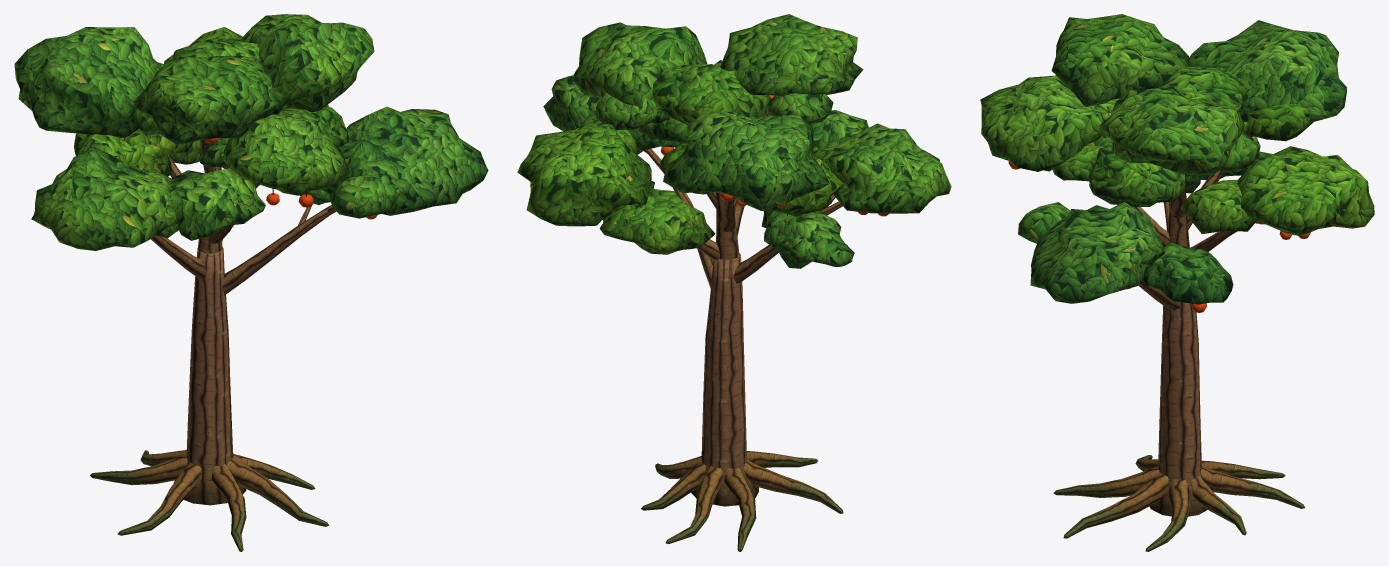
The model's file is tree.glb.
3 renders of one model, left to right at view 1: azimuth 30°, elevation 25°; view 2: azimuth 150°, elevation 25°; view 3: azimuth 270°, elevation 25°, orthographic. The views are drawn at different scales.
Parts seen in each view (by area): view 1: Leaves, Trunk, Roots, Branches; view 2: Leaves, Trunk, Roots, Branches; view 3: Leaves, Roots, Trunk, Branches.
Part boxes in pixels (x1=…): Leaves: x1=14, y1=14, x2=488, y2=250; Trunk: x1=174, y1=247, x2=246, y2=505; Roots: x1=90, y1=450, x2=329, y2=551; Branches: x1=151, y1=139, x2=336, y2=295; Leaves: x1=517, y1=14, x2=951, y2=268; Trunk: x1=691, y1=252, x2=758, y2=506; Roots: x1=641, y1=451, x2=843, y2=551; Branches: x1=644, y1=95, x2=842, y2=288; Leaves: x1=980, y1=14, x2=1374, y2=304; Roots: x1=1053, y1=455, x2=1304, y2=551; Trunk: x1=1149, y1=302, x2=1207, y2=516; Branches: x1=1132, y1=134, x2=1252, y2=311.
Size of the model in its own units: 5.73 by 6.21 by 4.71.
3 materials, 2 textured.
